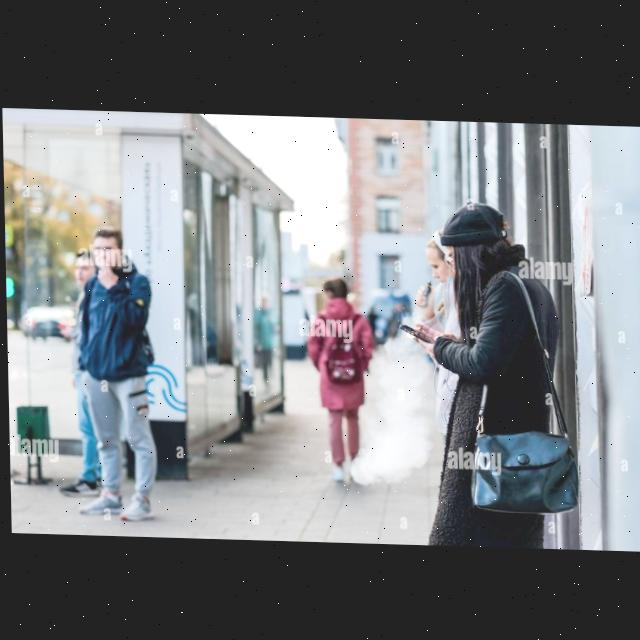vape: (414, 277, 432, 304)
